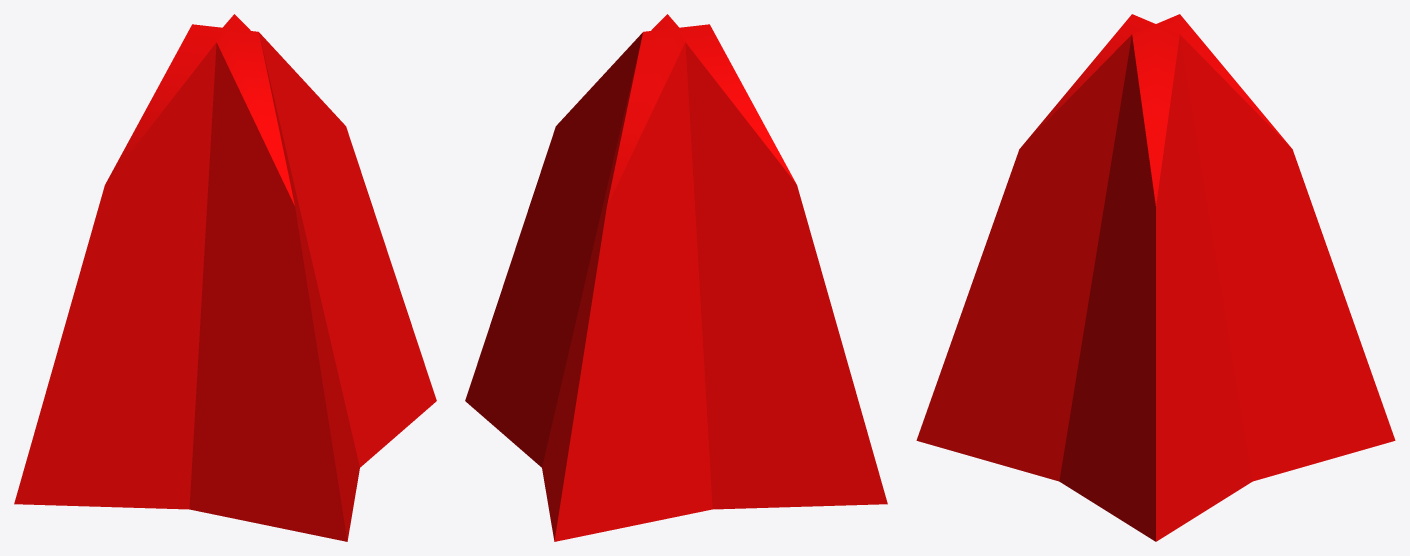
Rendered from mBoyaLuz01.fbx.
The picture shows the model from 3 angles, left to right: view 1: azimuth 30°, elevation 25°; view 2: azimuth 150°, elevation 25°; view 3: azimuth 270°, elevation 25°; orthographic projection.
Visible parts, largest first — view 1: mLight01; view 2: mLight01; view 3: mLight01.
Part boxes in pixels (x1=…): mLight01: x1=14, y1=14, x2=436, y2=541; mLight01: x1=465, y1=14, x2=887, y2=541; mLight01: x1=916, y1=14, x2=1395, y2=541.
Bounding box in the file's own units: 5.18 × 4.98 × 5.18.
